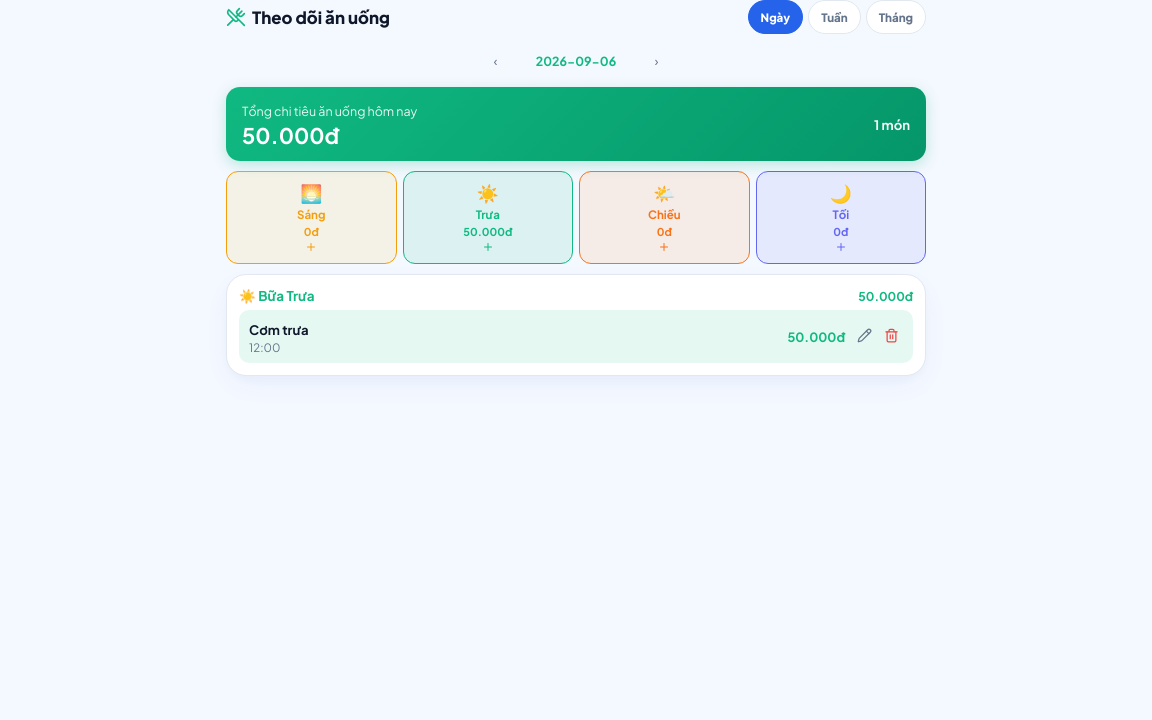
it: NutritionPage (Ăn uống) › gợi ý món ăn và tự điền giá khi chọn món
The image size is (1152, 720).
# Mở modal thêm bữa sáng
Click the button "🌅 Sáng 0đ" at [311, 218], box x1=226 y1=171 x2=396 y2=264
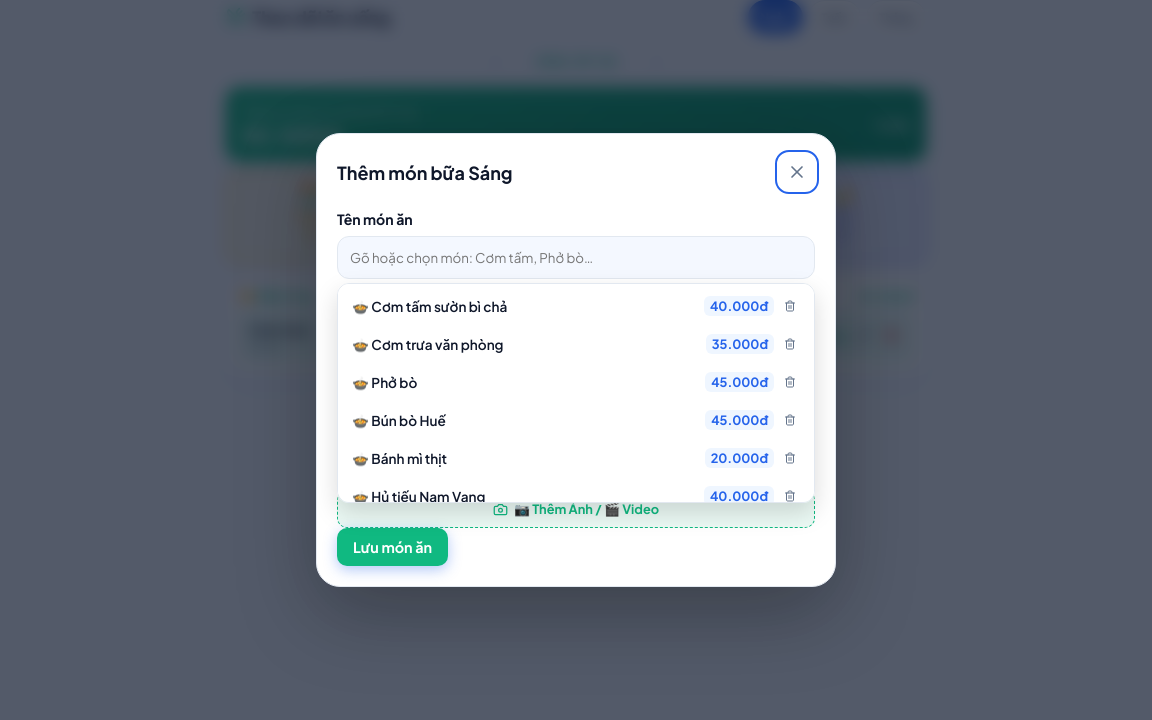
Expected: the field with placeholder "Gõ hoặc chọn món: Cơm tấm, Phở bò…" is shown
# Focus input để hiện gợi ý combobox
Click the field with placeholder "Gõ hoặc chọn món: Cơm tấm, Phở bò…" at [576, 258], box x1=337 y1=236 x2=815 y2=279
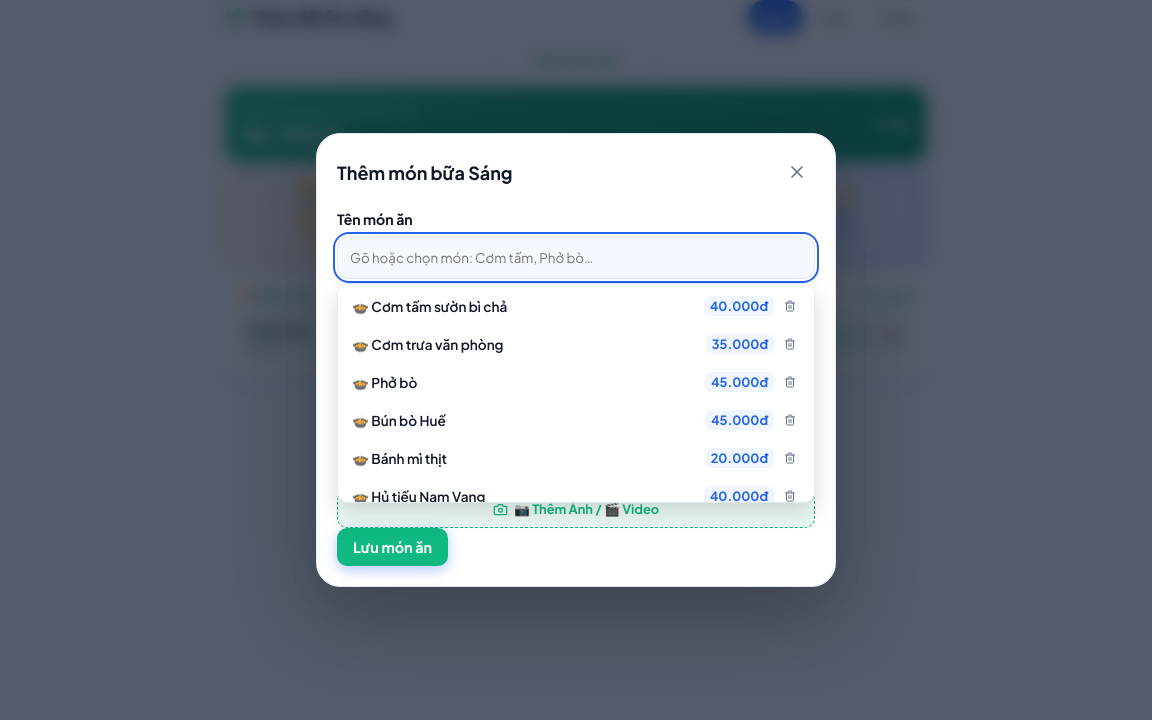
Expected: the text "🍲 Phở bò" is shown
Click the text "🍲 Phở bò" at [385, 382], box x1=352 y1=374 x2=417 y2=390
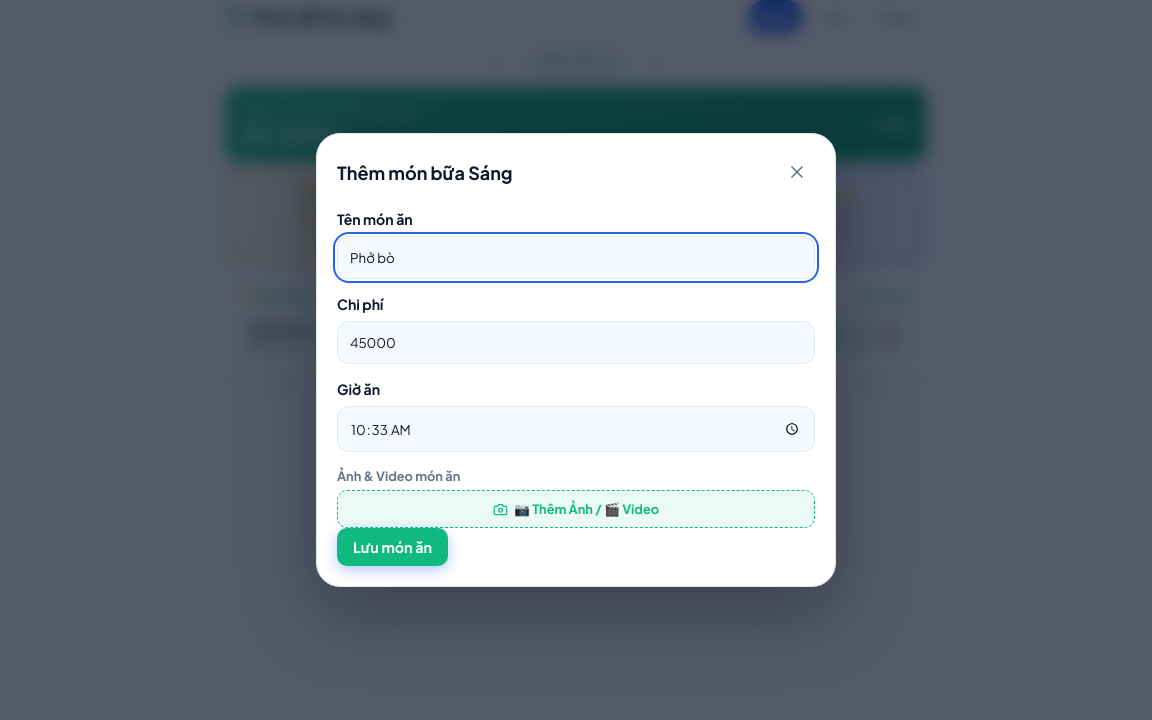
Expected: the field with placeholder "Gõ hoặc chọn món: Cơm tấm, Phở bò…" holds "Phở bò", x1=337 y1=236 x2=815 y2=279
Expected: the field with placeholder "Ví dụ: 35k hoặc 35000" holds "45000", x1=337 y1=321 x2=815 y2=364
